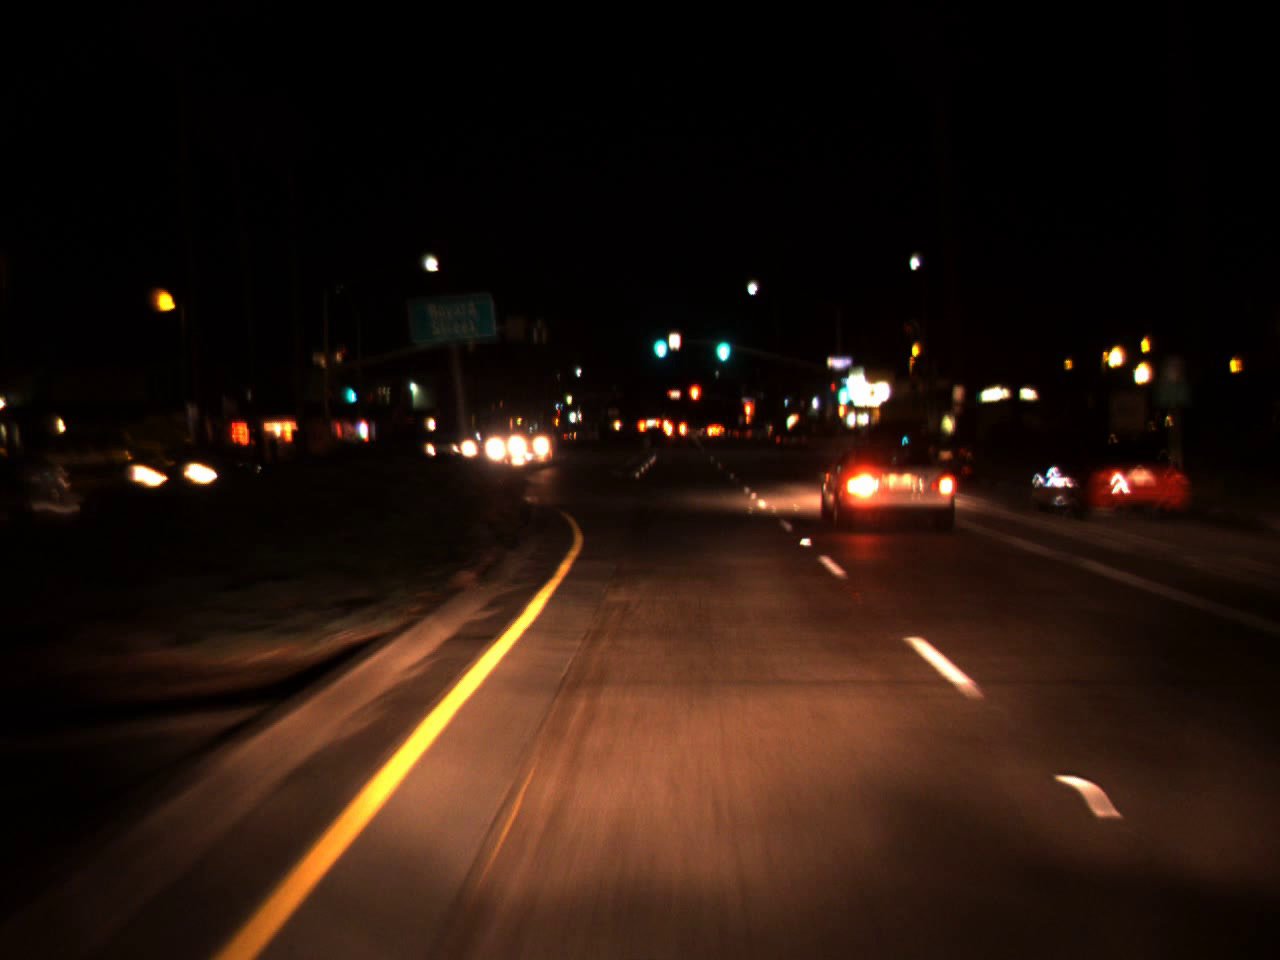go: (710, 322, 731, 364), (649, 318, 668, 363), (834, 372, 852, 408), (344, 372, 358, 408)
stop: (687, 382, 702, 419), (741, 400, 754, 427)
